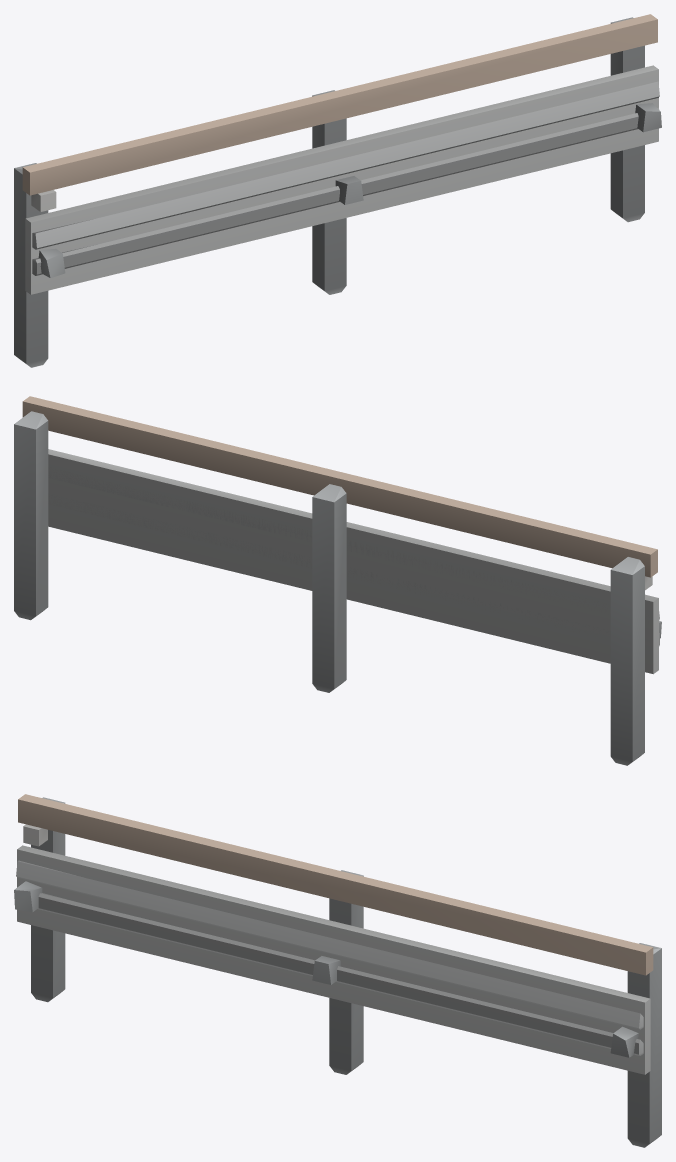
Rendered from crashbar.lod1.glb.
The picture shows the model from 3 angles, top to bottom: view 1: azimuth 30°, elevation 25°; view 2: azimuth 150°, elevation 25°; view 3: azimuth 330°, elevation 25°; orthographic projection.
Bounding box in the file's own units: 4 × 1.24 × 0.358.
